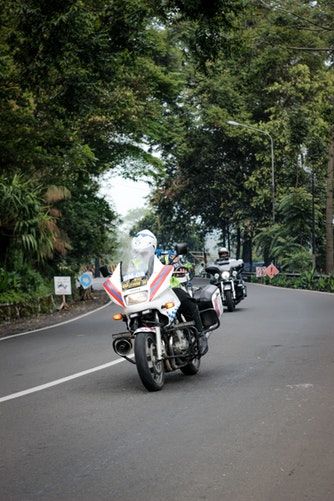helmet: (129, 228, 163, 252)
